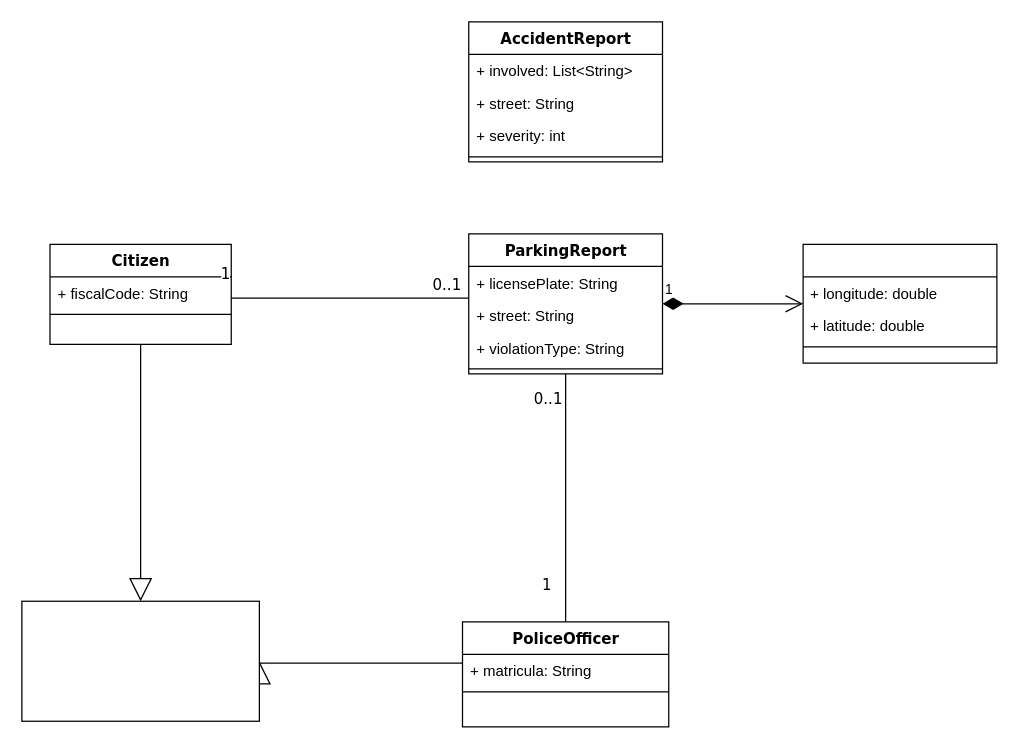
The diagram is 1019 pixels wide and 749 high, and some of its shapes have lost their labels. The box of each missing label's shape, as (x1, y1, x2, y2) in pixels:
<<Abstract>> User + username: String + password: String: (21, 600, 259, 721)
Location: (802, 243, 997, 363)
